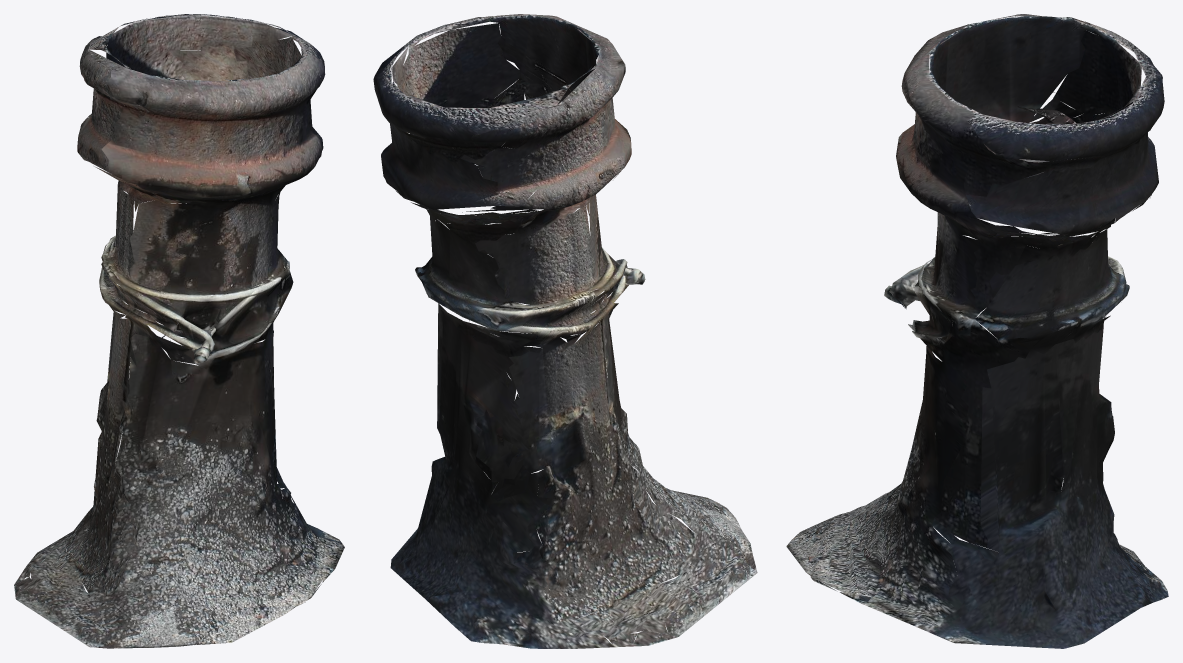
The model's file is chimney1.glb.
3 renders of one model, left to right at view 1: azimuth 30°, elevation 25°; view 2: azimuth 150°, elevation 25°; view 3: azimuth 270°, elevation 25°, orthographic. The views are drawn at different scales.
Parts seen in each view (by area): view 1: Object_0; view 2: Object_0; view 3: Object_0.
Boxes of the visible parts, left/top/right/bottom form: Object_0: left=14, top=14, right=344, bottom=648; Object_0: left=373, top=14, right=757, bottom=648; Object_0: left=786, top=14, right=1168, bottom=648.
Size of the model in its own units: 30.59 by 52.53 by 32.59.
Materials: 1 (1 with a texture image).
